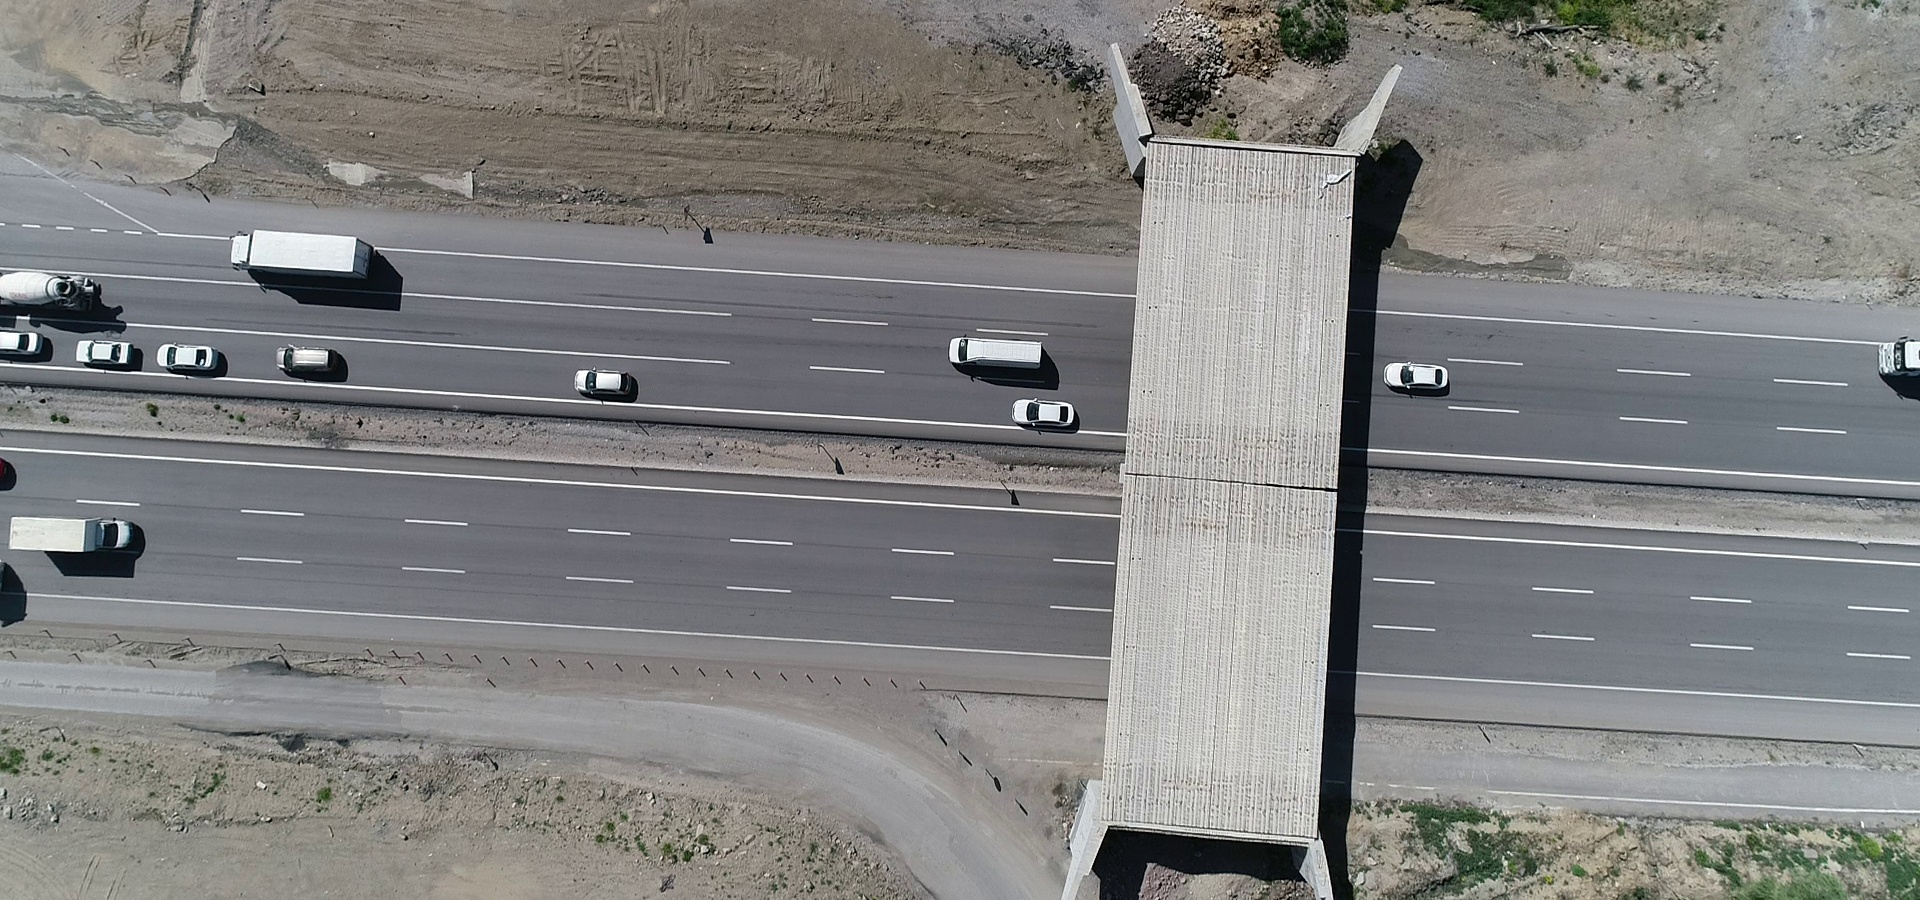arac: (227, 219, 398, 283), (7, 512, 151, 560), (1, 260, 107, 318), (942, 331, 1059, 378), (1389, 351, 1471, 397), (276, 342, 353, 381), (1011, 389, 1080, 431), (151, 338, 228, 373), (1867, 326, 1920, 376), (569, 362, 647, 396), (1, 320, 55, 361), (76, 336, 142, 365)
